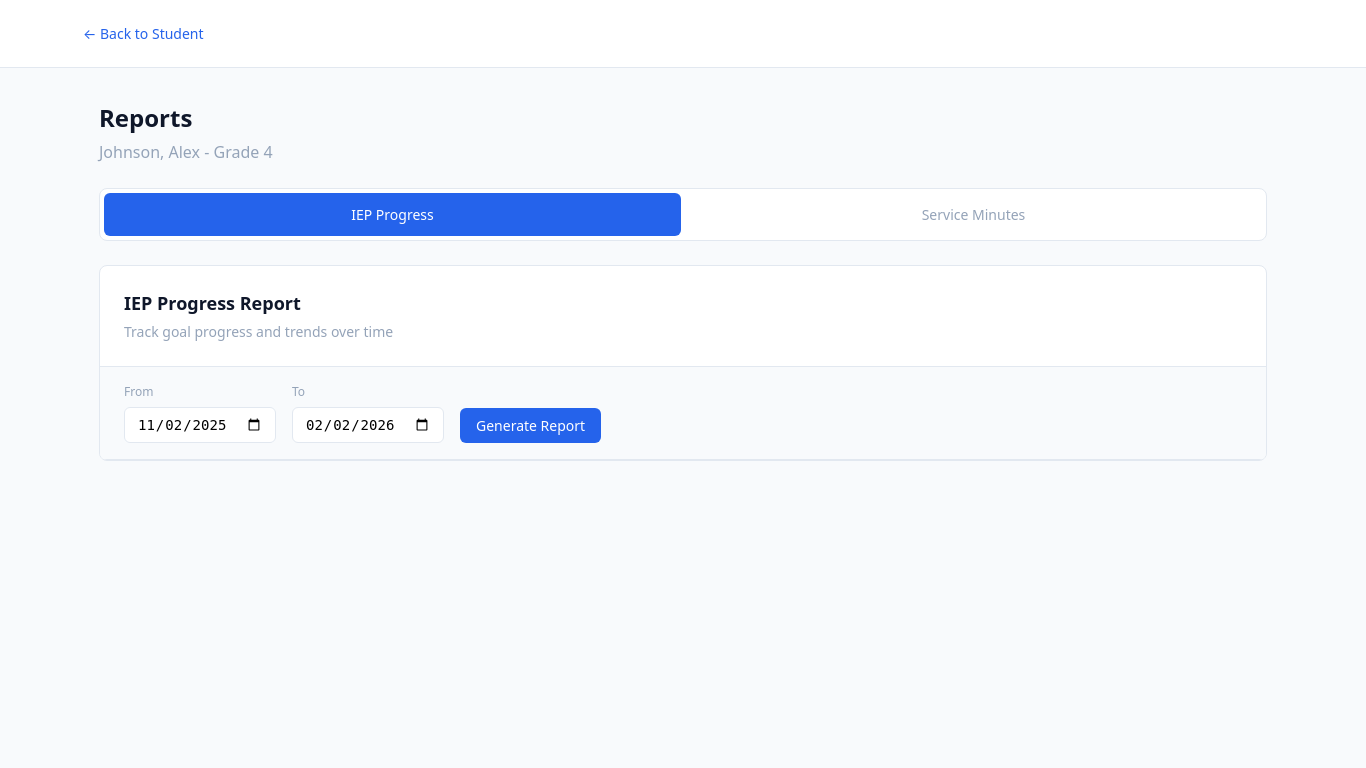
Test case: Reports Page › IEP Progress Report › displays goal progress data
What coordinates should you click on to do the following:
click the button "Generate Report"
I would click on:
 (531, 426)
Its box is [460,408,601,443].
(page scrolled)
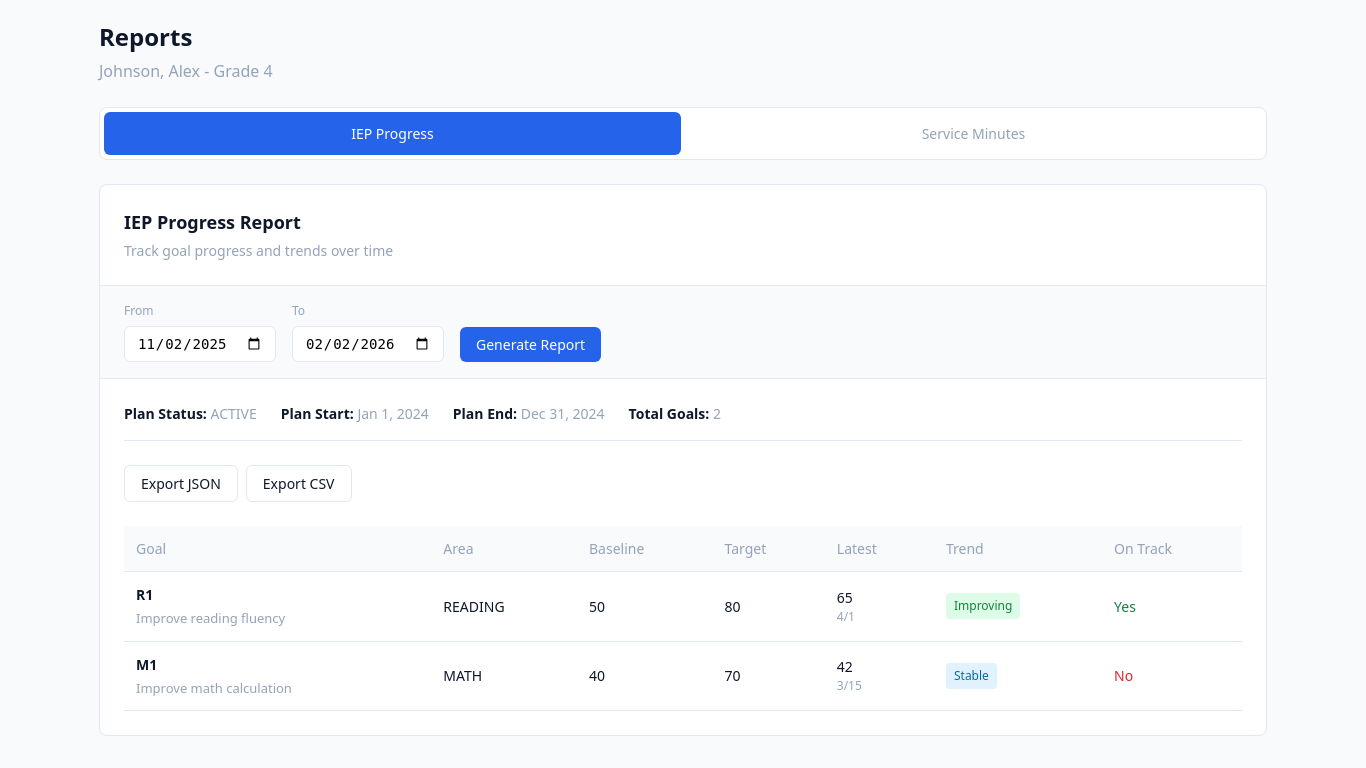
Now the text "R1" is shown, box [136,585,153,604]
Now the text "M1" is shown, box [136,654,157,674]
Now the text "Improving" is shown, box [946,593,1020,619]
